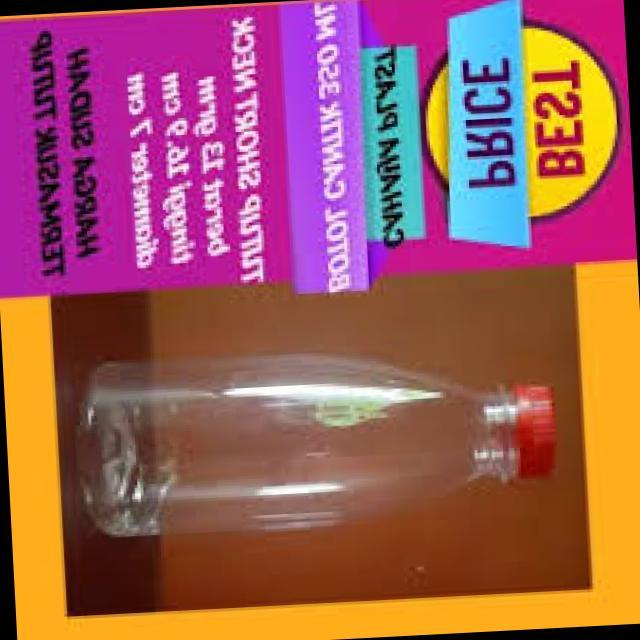good: (82, 350, 566, 540)
